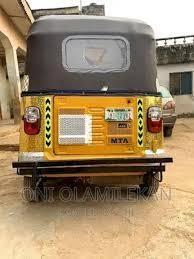keke: (15, 13, 172, 212)
